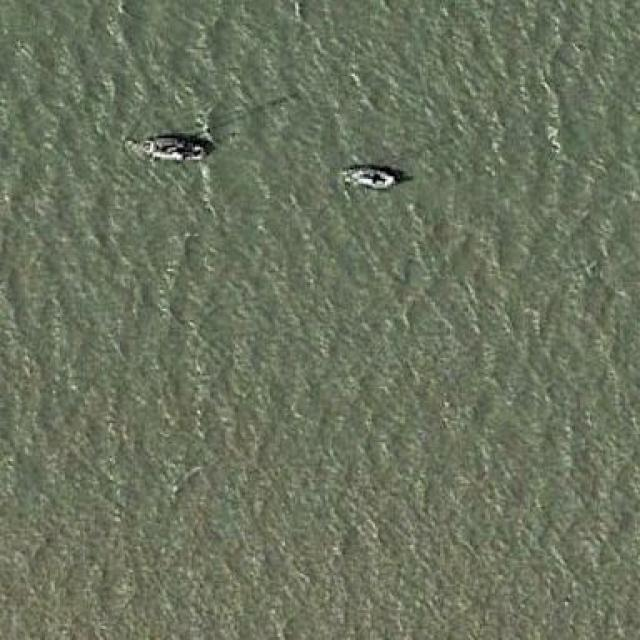ship: (125, 128, 215, 166), (338, 163, 398, 189)
